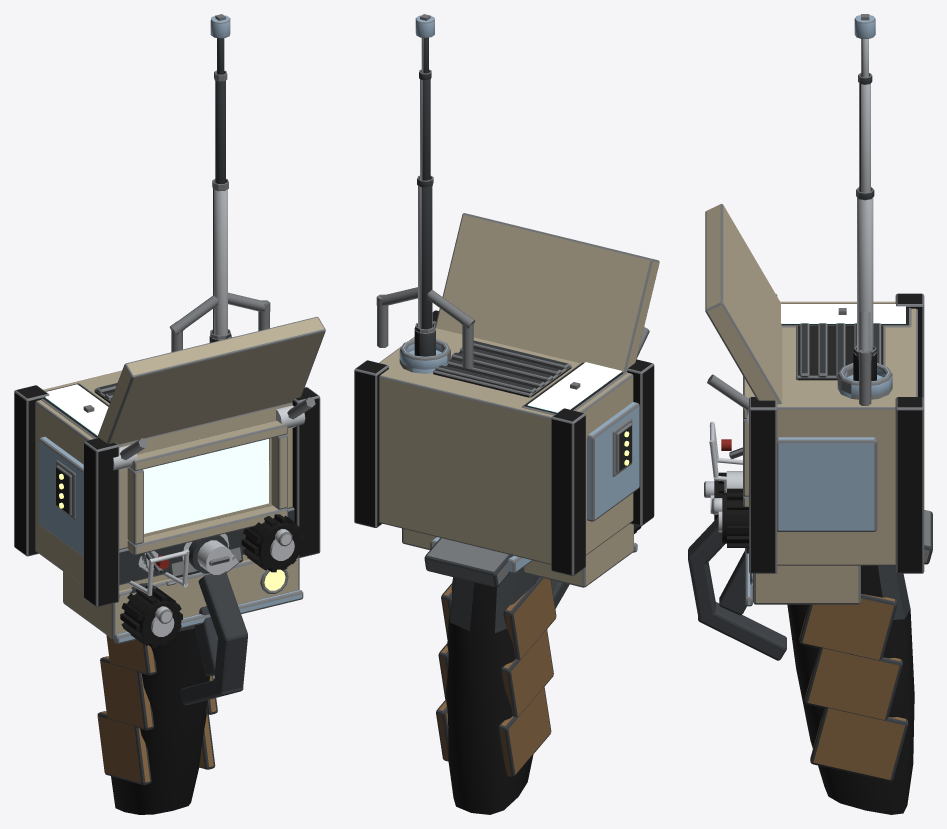
File: resizer_remote.fbx
3 renders of one model, left to right at view 1: azimuth 30°, elevation 25°; view 2: azimuth 150°, elevation 25°; view 3: azimuth 270°, elevation 25°, orthographic. The views are drawn at different scales.
Parts seen in each view (by area): view 1: Mesh_ResizerRemote_Case, Mesh_ResizerRemote_Grip, Mesh_ResizerRemote_Yoke, Mesh_ResizerRemote_Screen, Mesh_ResizerRemote_Whip, Mesh_ResizerRemote_Dial, Mesh_ResizerRemote_Gauge, Mesh_ResizerRemote_Lamp; view 2: Mesh_ResizerRemote_Case, Mesh_ResizerRemote_Grip, Mesh_ResizerRemote_Yoke, Mesh_ResizerRemote_Whip, Mesh_ResizerRemote_Gauge; view 3: Mesh_ResizerRemote_Case, Mesh_ResizerRemote_Grip, Mesh_ResizerRemote_Yoke, Mesh_ResizerRemote_Whip, Mesh_ResizerRemote_Gauge, Mesh_ResizerRemote_Dial.
Part boxes in pixels (x1,y1,x2,y2): Mesh_ResizerRemote_Case: [14, 317, 325, 607]; Mesh_ResizerRemote_Grip: [97, 547, 247, 814]; Mesh_ResizerRemote_Yoke: [38, 292, 303, 643]; Mesh_ResizerRemote_Screen: [143, 439, 268, 533]; Mesh_ResizerRemote_Whip: [209, 15, 231, 342]; Mesh_ResizerRemote_Dial: [119, 580, 182, 647]; Mesh_ResizerRemote_Gauge: [45, 384, 108, 435]; Mesh_ResizerRemote_Lamp: [260, 569, 288, 593]; Mesh_ResizerRemote_Case: [354, 213, 659, 575]; Mesh_ResizerRemote_Grip: [424, 538, 569, 814]; Mesh_ResizerRemote_Yoke: [376, 287, 639, 587]; Mesh_ResizerRemote_Whip: [414, 15, 435, 356]; Mesh_ResizerRemote_Gauge: [527, 362, 621, 412]; Mesh_ResizerRemote_Case: [705, 204, 924, 573]; Mesh_ResizerRemote_Grip: [688, 510, 932, 814]; Mesh_ResizerRemote_Yoke: [745, 303, 911, 606]; Mesh_ResizerRemote_Whip: [853, 15, 876, 380]; Mesh_ResizerRemote_Gauge: [781, 304, 905, 323]; Mesh_ResizerRemote_Dial: [704, 472, 726, 520].
Bounding box in the file's own units: 13.84 × 44.62 × 12.02.
